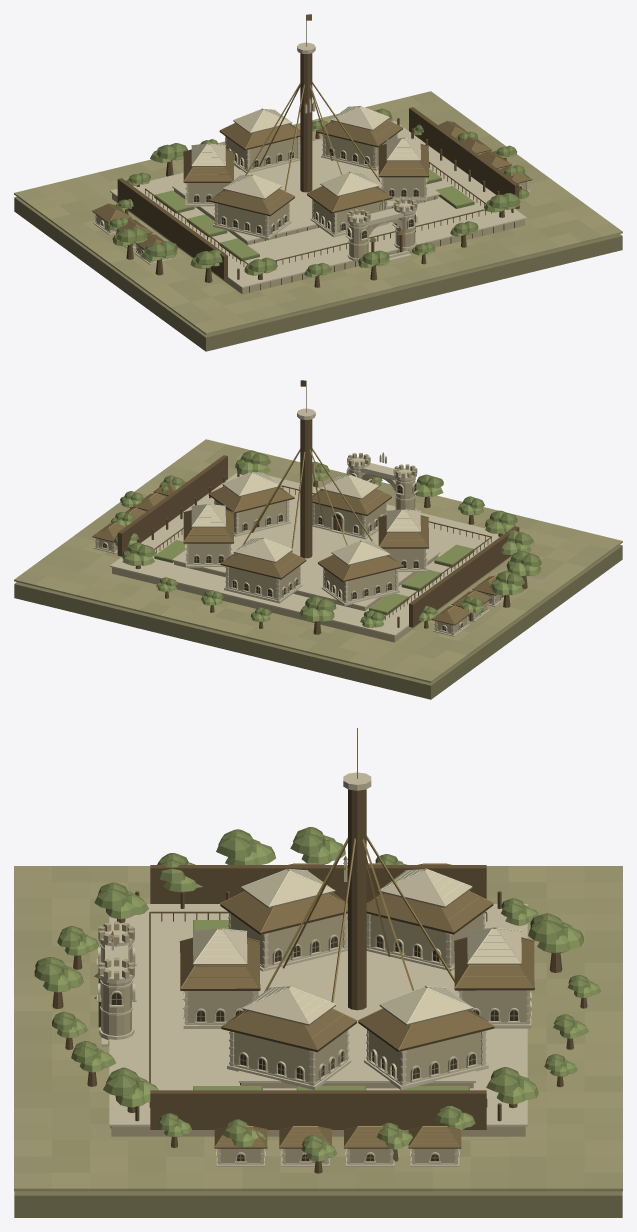
The model's file is steppe.glb.
3 renders of one model, top to bottom at view 1: azimuth 30°, elevation 25°; view 2: azimuth 150°, elevation 25°; view 3: azimuth 270°, elevation 25°, orthographic. The views are drawn at different scales.
Visible parts, largest first — view 1: site, moot-ground, felt-halls-roof, stock-pens, felt-halls, landscape, standard, landscape-roof, stock-pens-roof; view 2: site, moot-ground, felt-halls-roof, landscape, stock-pens, felt-halls, standard, landscape-roof, stock-pens-roof; view 3: site, felt-halls-roof, moot-ground, landscape, stock-pens, felt-halls, standard, landscape-roof, stock-pens-roof.
Boxes of the visible parts, left/top/right/bottom form: site: left=14, top=91, right=622, bottom=351; moot-ground: left=110, top=118, right=526, bottom=294; felt-halls-roof: left=183, top=106, right=429, bottom=216; stock-pens: left=117, top=107, right=519, bottom=279; felt-halls: left=185, top=133, right=427, bottom=240; landscape: left=93, top=108, right=530, bottom=287; standard: left=245, top=14, right=379, bottom=192; landscape-roof: left=92, top=120, right=532, bottom=249; stock-pens-roof: left=347, top=198, right=417, bottom=223; site: left=14, top=439, right=622, bottom=699; moot-ground: left=110, top=472, right=511, bottom=642; felt-halls-roof: left=183, top=472, right=428, bottom=582; landscape: left=93, top=450, right=541, bottom=636; stock-pens: left=117, top=455, right=519, bottom=627; felt-halls: left=185, top=499, right=427, bottom=605; standard: left=242, top=380, right=373, bottom=558; landscape-roof: left=92, top=480, right=496, bottom=625; stock-pens-roof: left=347, top=453, right=417, bottom=478; site: left=14, top=866, right=622, bottom=1217; felt-halls-roof: left=179, top=868, right=534, bottom=1052; moot-ground: left=101, top=891, right=527, bottom=1136; landscape: left=34, top=827, right=601, bottom=1173; stock-pens: left=96, top=865, right=487, bottom=1129; felt-halls: left=182, top=912, right=531, bottom=1089; standard: left=264, top=728, right=454, bottom=1010; landscape-roof: left=214, top=863, right=461, bottom=1148; stock-pens-roof: left=98, top=921, right=134, bottom=980.
Size of the model in its own units: 59.01 by 28 by 47.06.
